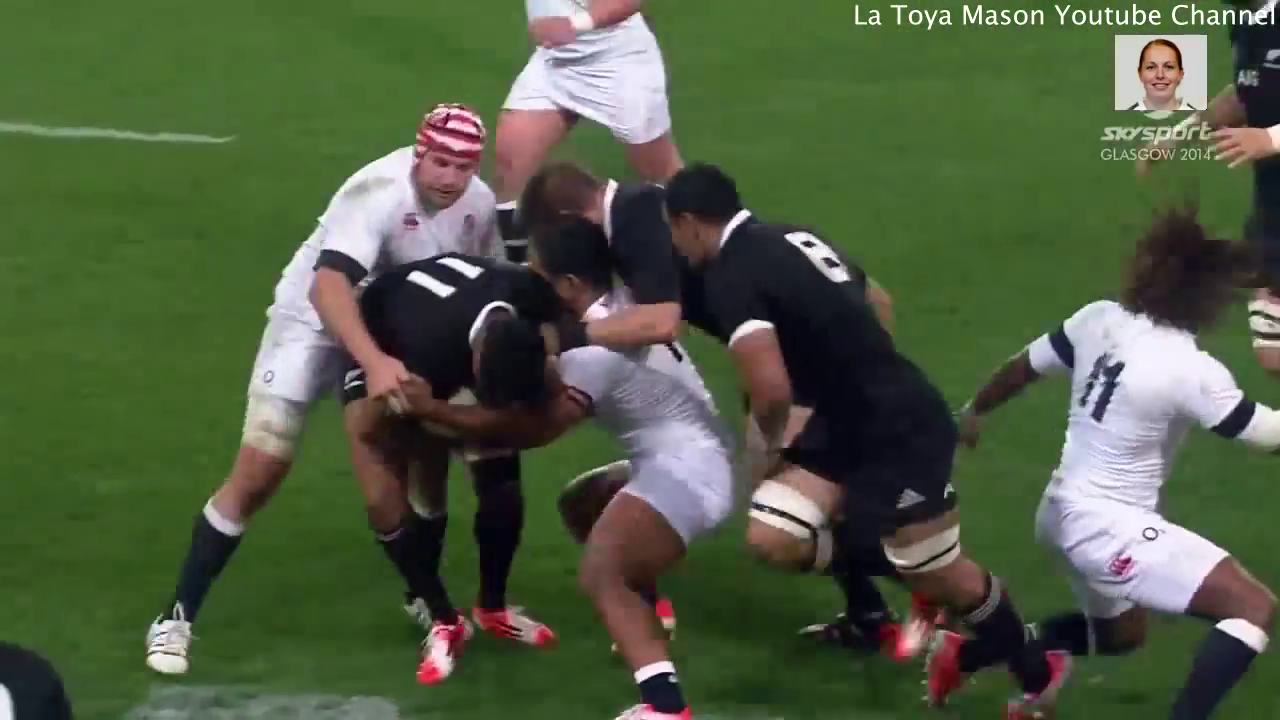player: (659, 160, 1074, 720), (133, 97, 520, 681), (939, 203, 1280, 720), (500, 227, 754, 720), (508, 152, 757, 370), (488, 1, 716, 234)
